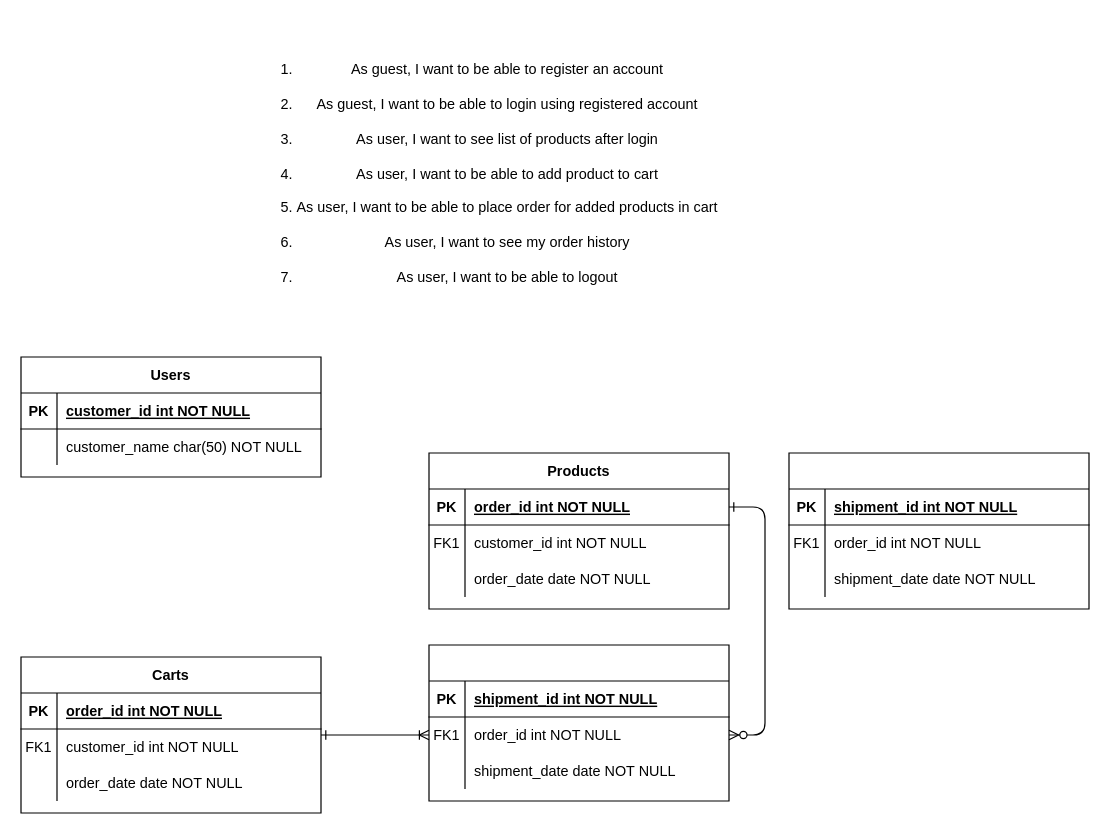
Image size: 1110x834. Some labels were removed from this diagram. The shapes that lost their labels are listed below. From the top down, each one's box as (x1, y1, x2, y2) in pixels, then its label:
(788, 452, 1089, 609): Orders_Carts_Transaction
(428, 644, 729, 801): Orders
